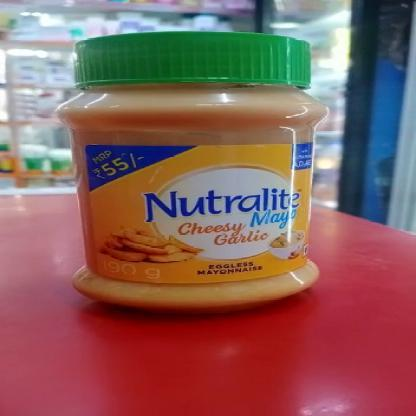Nutralite CHEESY GARLIC MAYO 300g-275g-25g-: (76, 43, 310, 292), (319, 312, 320, 317)
